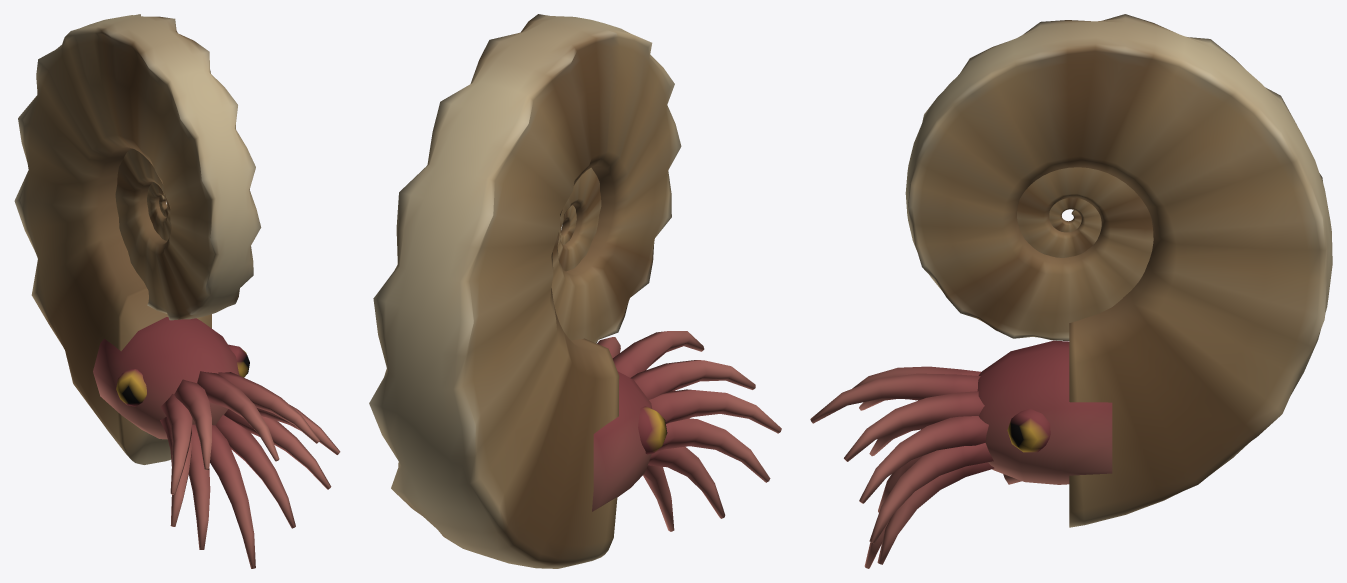
File: Ceratites.fbx
3 renders of one model, left to right at view 1: azimuth 30°, elevation 25°; view 2: azimuth 150°, elevation 25°; view 3: azimuth 270°, elevation 25°, orthographic. The views are drawn at different scales.
Parts seen in each view (by area): view 1: Ceratites; view 2: Ceratites; view 3: Ceratites.
Boxes of the visible parts, x1,y1,x2,y2 form: Ceratites: [14, 14, 340, 568]; Ceratites: [369, 14, 781, 568]; Ceratites: [810, 14, 1332, 568].
Bounding box in the file's own units: 0.6865 × 1.8 × 1.58.
